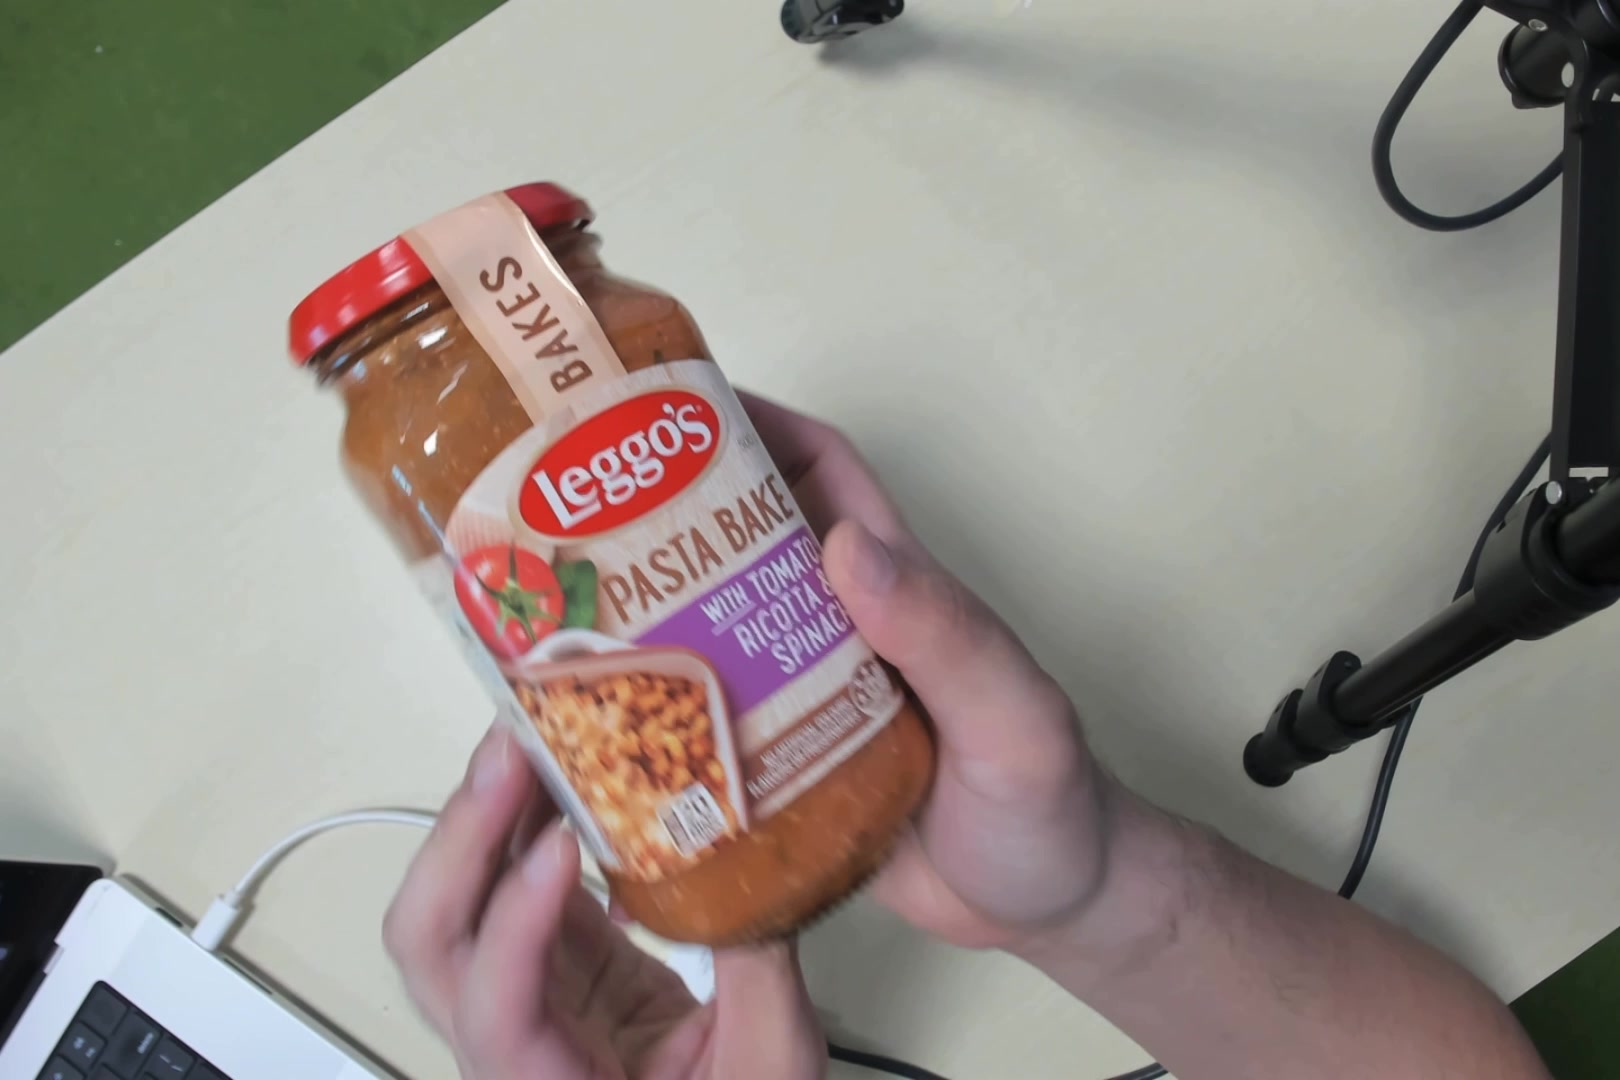Pasta_500-599g_Halal_NonHealthy: (400, 224, 871, 887)
